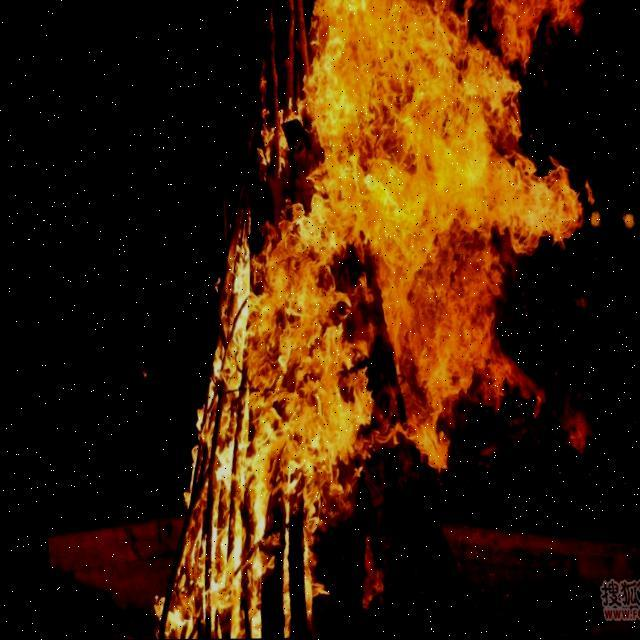Fire: (94, 1, 608, 638)
